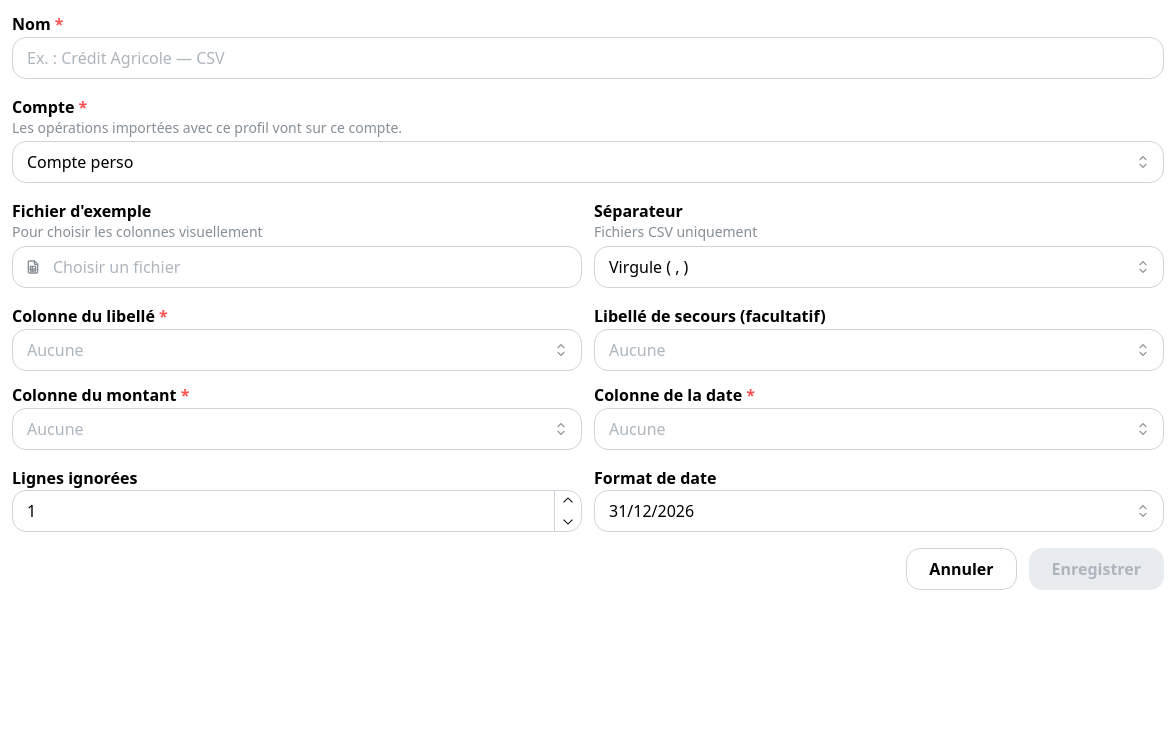
ImportProfileForm › offers only the accounts receiving operations, the first one by default
The image size is (1176, 732).
Click the dropdown labelled "Compte *" at (588, 162), box x1=12 y1=141 x2=1164 y2=183
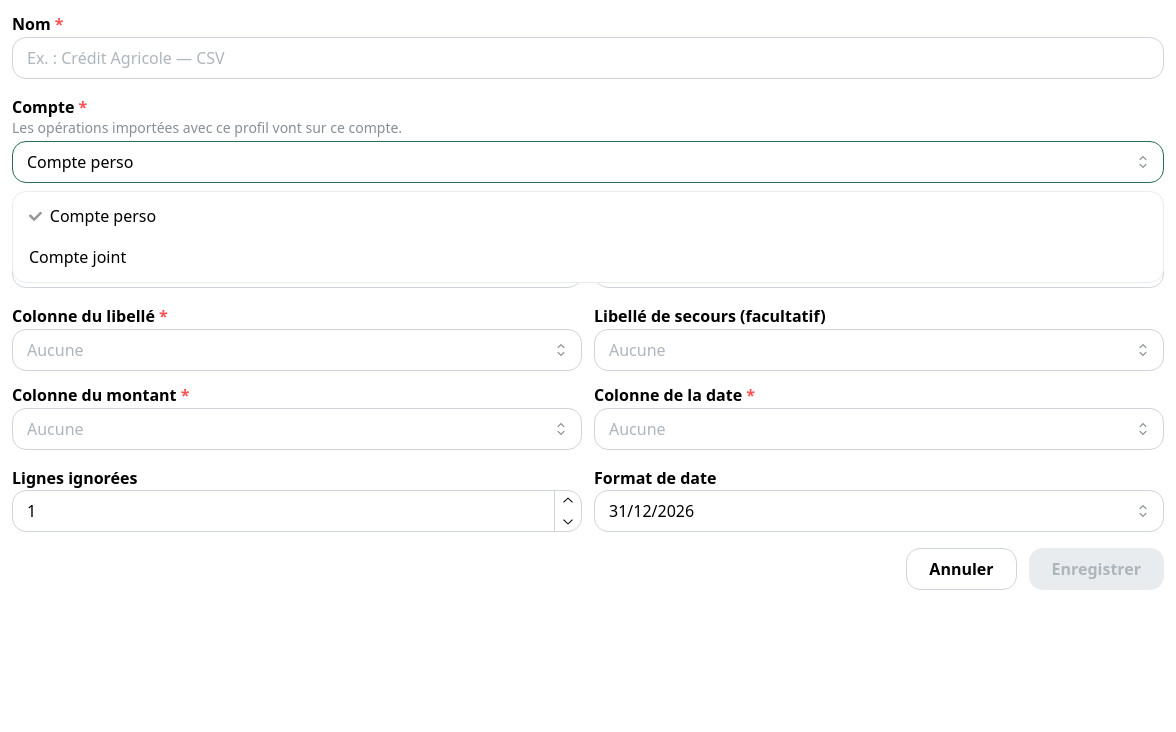
Now the option "Compte joint" is shown, box x1=29 y1=246 x2=126 y2=268
